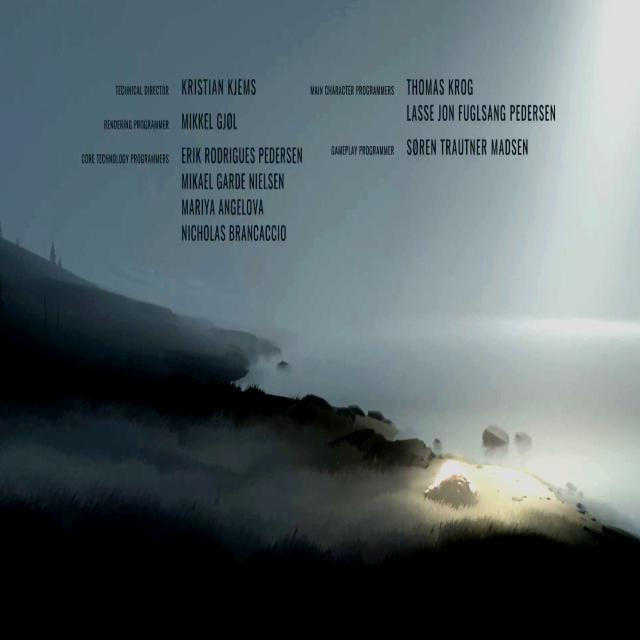blob: (424, 460, 479, 507)
